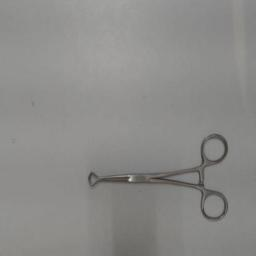Babcock Tissue Forceps: (86, 130, 230, 226)
